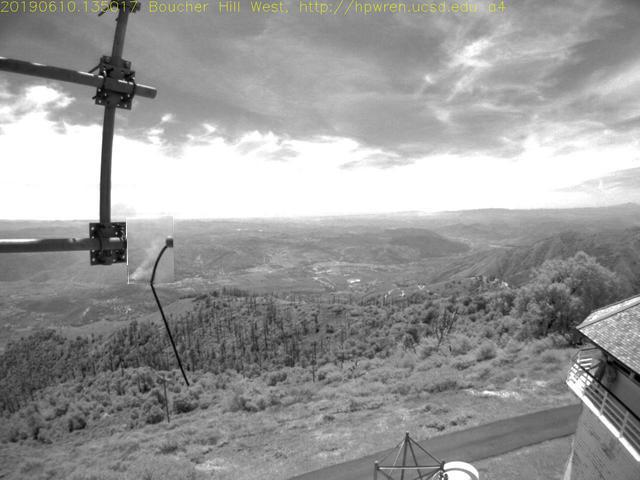smoke: (128, 218, 176, 286)
